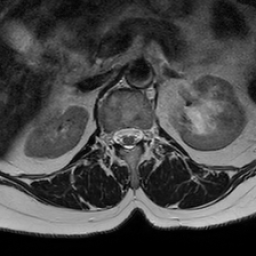CCS_normal: (123, 121, 132, 156)
LFS_normal: (142, 120, 153, 148)
LLS_normal: (132, 120, 142, 152)
RFS_normal: (105, 122, 113, 153)
RLS_normal: (113, 122, 123, 153)
